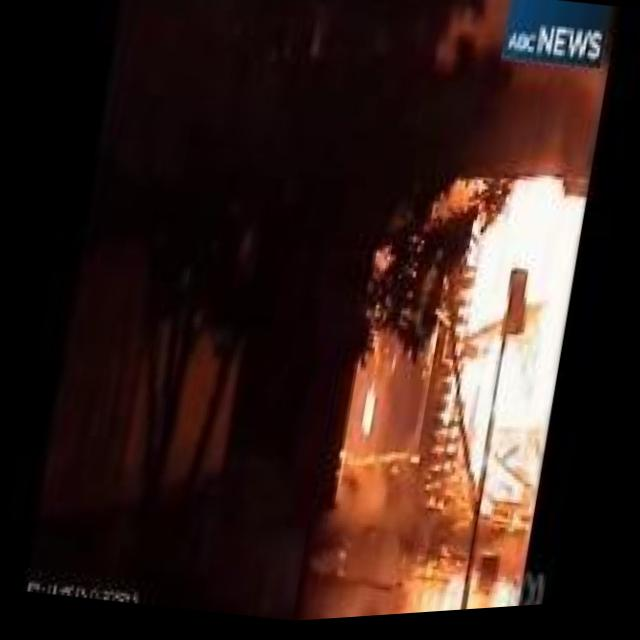fire: (416, 156, 595, 522), (349, 381, 397, 452)
